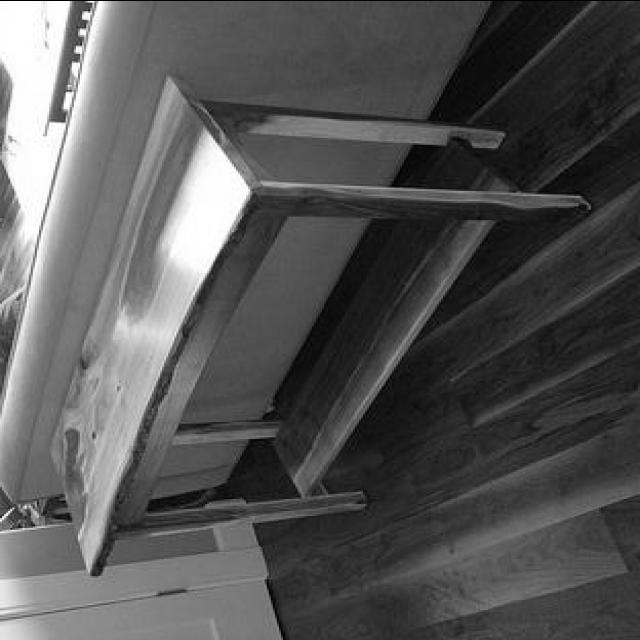table: (45, 68, 590, 580)
